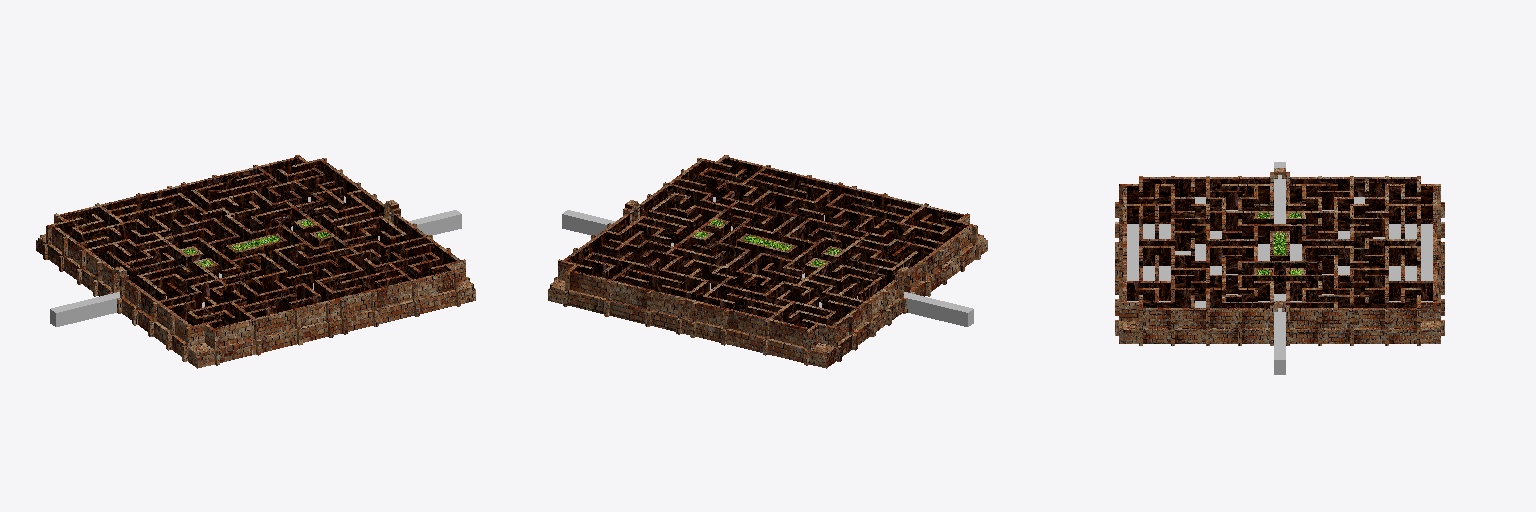
3 views of the same model, side by side, from view 1: azimuth 30°, elevation 25°; view 2: azimuth 150°, elevation 25°; view 3: azimuth 270°, elevation 25° (orthographic).
Parts seen in each view (by area): view 1: insideWall_maze2, brick_maze2.001, floor_maze2.003; view 2: insideWall_maze2, brick_maze2.001, floor_maze2.003; view 3: insideWall_maze2, brick_maze2.001, floor_maze2.003.
Boxes of the visible parts, x1=… form: insideWall_maze2: x1=55, y1=158, x2=456, y2=327; brick_maze2.001: x1=36, y1=155, x2=475, y2=368; floor_maze2.003: x1=50, y1=196, x2=461, y2=326; insideWall_maze2: x1=567, y1=158, x2=968, y2=327; brick_maze2.001: x1=548, y1=155, x2=987, y2=368; floor_maze2.003: x1=562, y1=197, x2=973, y2=326; insideWall_maze2: x1=1127, y1=179, x2=1432, y2=307; brick_maze2.001: x1=1115, y1=168, x2=1444, y2=345; floor_maze2.003: x1=1127, y1=162, x2=1432, y2=374.
Bounding box in the file's own units: 118 × 11 × 83.
4 materials, 3 textured.